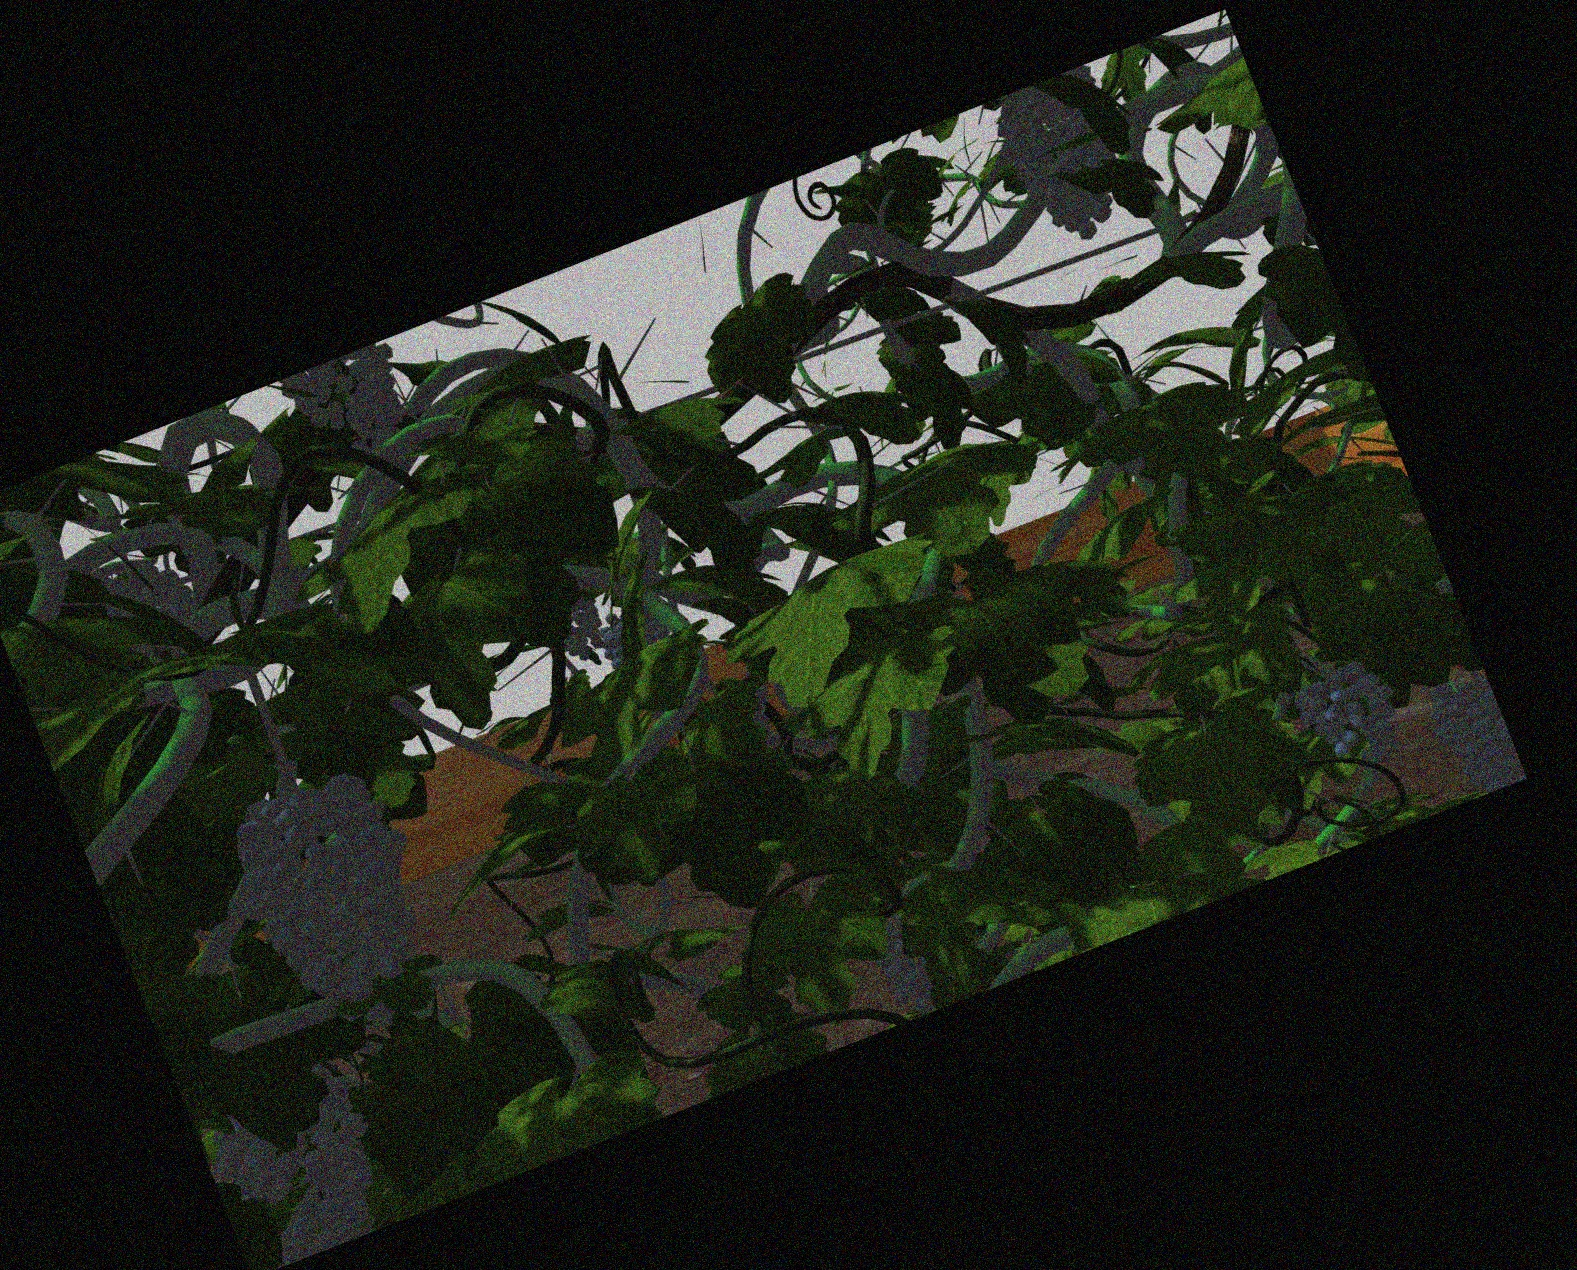grape: (250, 785, 413, 995), (222, 1087, 371, 1245), (1013, 91, 1109, 238), (1304, 660, 1396, 768), (293, 360, 406, 446), (1440, 678, 1504, 791)
